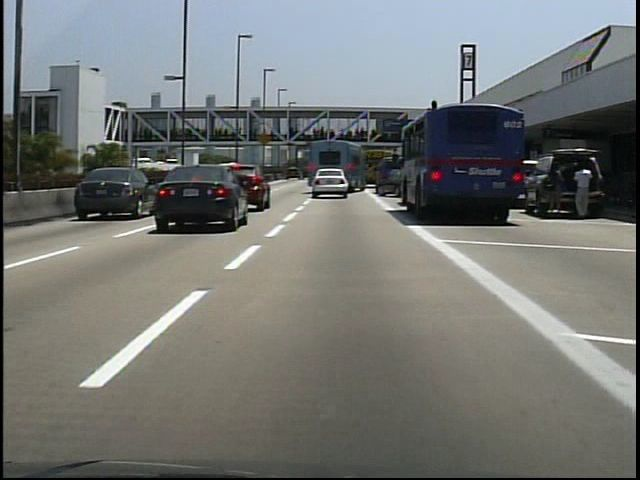person: (568, 161, 594, 225), (539, 160, 565, 223)
